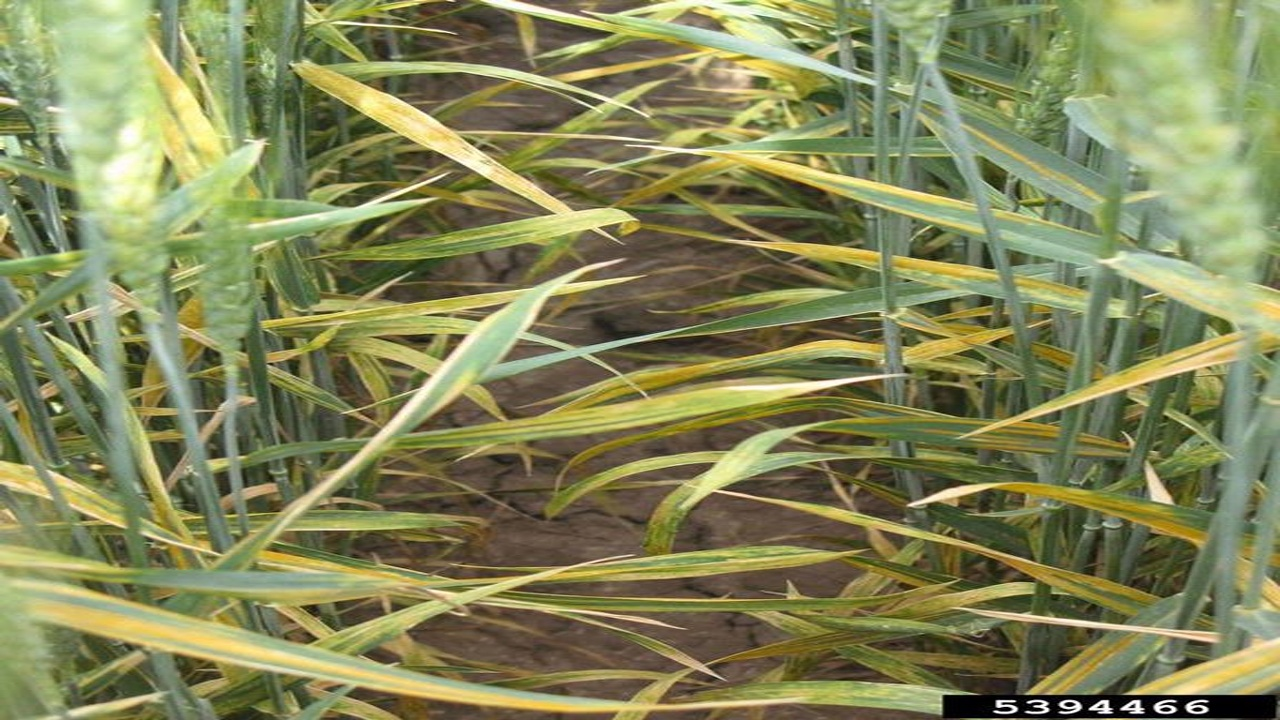stripe_rust: (6, 579, 780, 720), (900, 484, 1280, 608), (294, 64, 579, 227), (682, 146, 1087, 259), (222, 379, 811, 436), (752, 420, 1165, 469), (483, 538, 876, 581), (254, 284, 609, 320)
